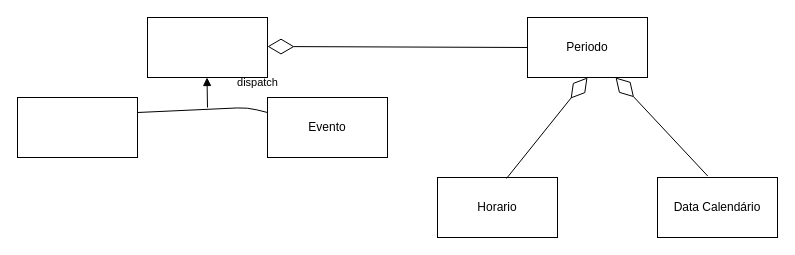
Image size: 795x255. Some labels were removed from this diagram. Here are the shapes that lost their labels. From the top down, the centre of each, then its label:
At [207,47]: "Item Agenda Abstract".
At [77,127]: "Lembrete".
